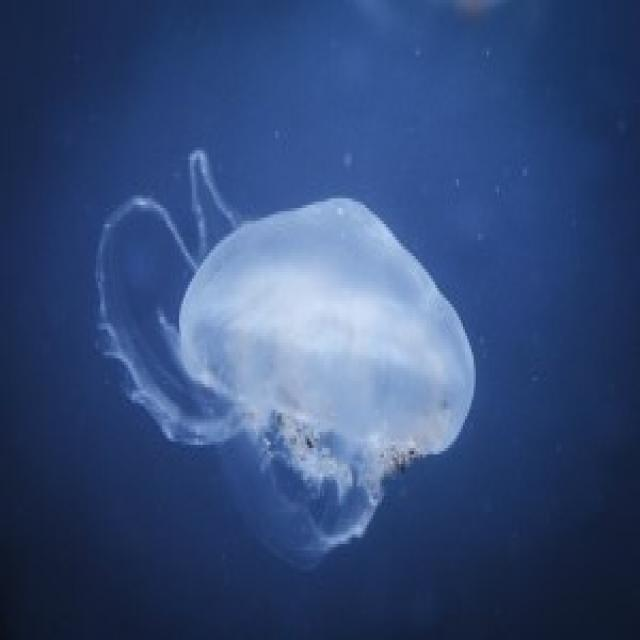Jellyfish: (94, 130, 484, 580)
